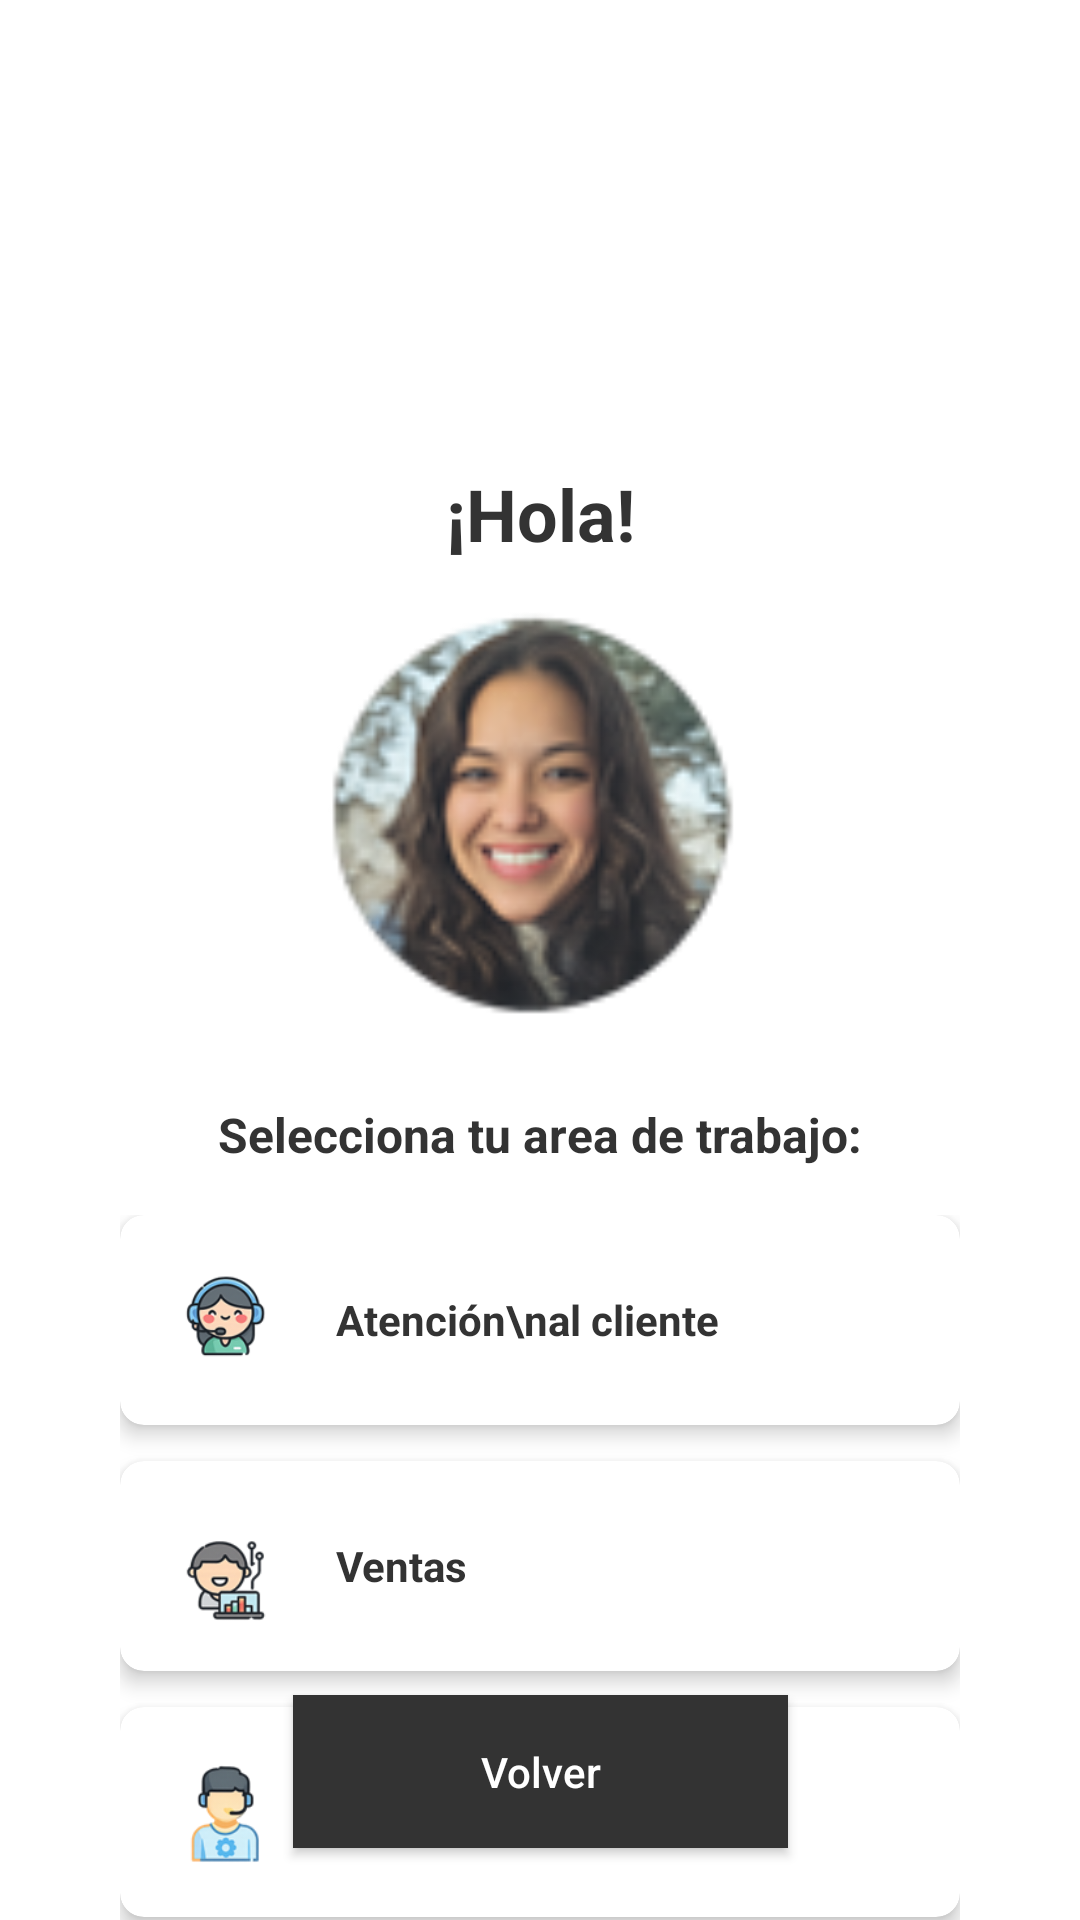

Screen size 1080px×1920px. Icon name, then its box in pixels as (x1, y1, x2, y2):
atencion: (186, 1276, 265, 1356)
